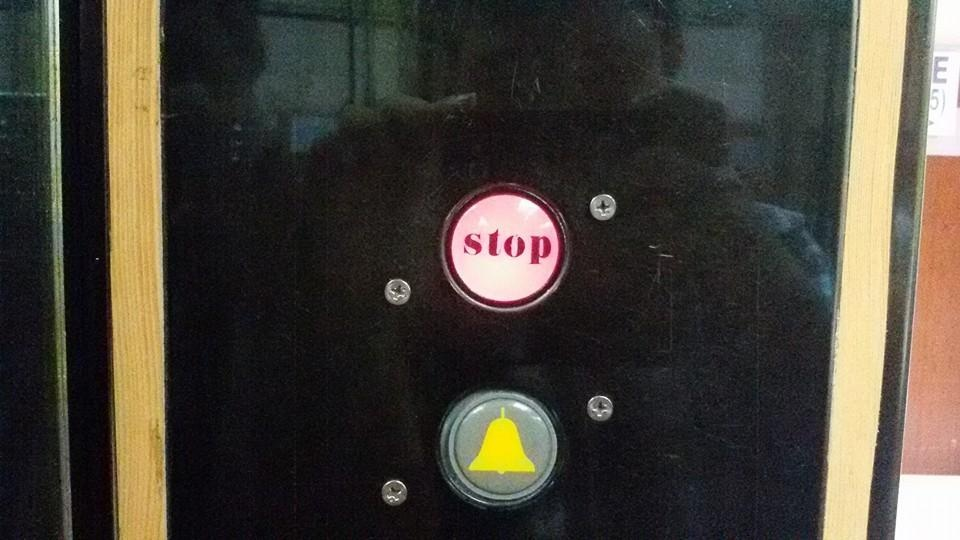alarm: (436, 385, 564, 510)
stop: (439, 177, 568, 318)
